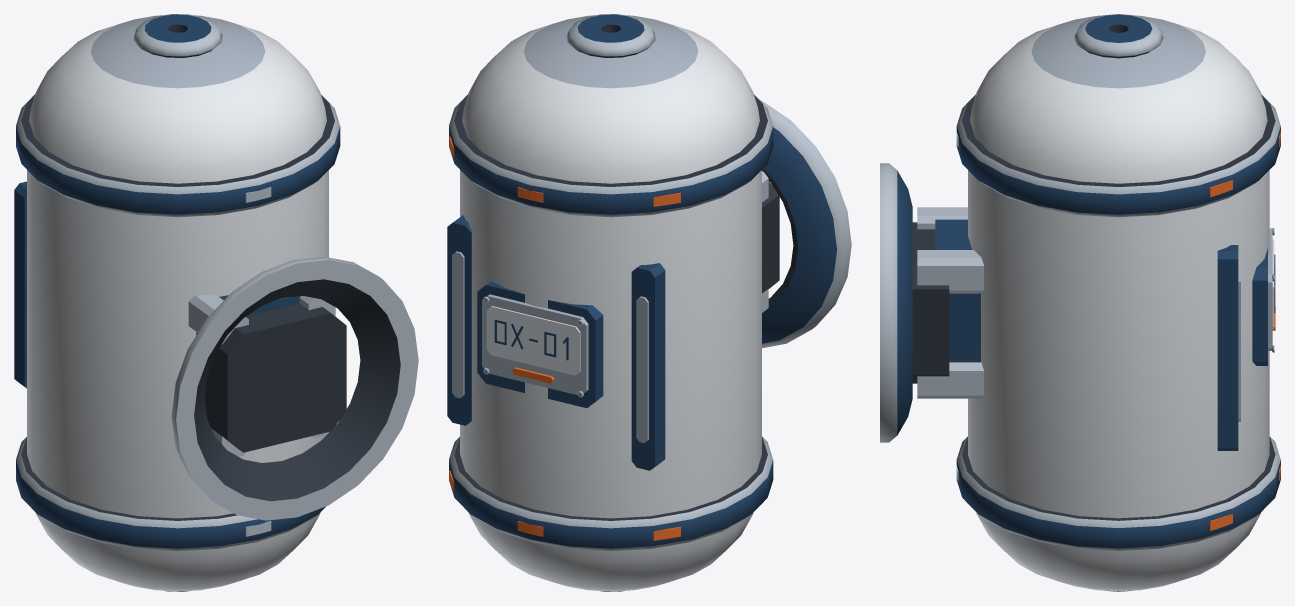
Rendered from oxigeno_p01.glb.
3 renders of one model, left to right at view 1: azimuth 30°, elevation 25°; view 2: azimuth 150°, elevation 25°; view 3: azimuth 270°, elevation 25°, orthographic.
Visible parts, largest first — view 1: OX-01 | Cuerpo cerámico y extremos redondeados, OX-01 | Brida y montura integrada, OX-01 | Bandas y protecciones; view 2: OX-01 | Cuerpo cerámico y extremos redondeados, OX-01 | Bandas y protecciones, OX-01 | Brida y montura integrada, OX-01 | Placa OX-01 y marcas; view 3: OX-01 | Cuerpo cerámico y extremos redondeados, OX-01 | Bandas y protecciones, OX-01 | Brida y montura integrada, OX-01 | Placa OX-01 y marcas.
Boxes of the visible parts, left/top/right/bottom form: OX-01 | Cuerpo cerámico y extremos redondeados: left=27, top=14, right=328, bottom=591; OX-01 | Brida y montura integrada: left=171, top=256, right=418, bottom=520; OX-01 | Bandas y protecciones: left=14, top=94, right=340, bottom=551; OX-01 | Cuerpo cerámico y extremos redondeados: left=460, top=14, right=761, bottom=591; OX-01 | Bandas y protecciones: left=447, top=94, right=773, bottom=551; OX-01 | Brida y montura integrada: left=760, top=100, right=851, bottom=348; OX-01 | Placa OX-01 y marcas: left=477, top=281, right=603, bottom=408; OX-01 | Cuerpo cerámico y extremos redondeados: left=968, top=14, right=1269, bottom=591; OX-01 | Bandas y protecciones: left=956, top=94, right=1280, bottom=550; OX-01 | Brida y montura integrada: left=880, top=163, right=983, bottom=442; OX-01 | Placa OX-01 y marcas: left=1252, top=228, right=1275, bottom=365.
Size of the model in its own units: 0.75 by 1.4 by 0.927.
